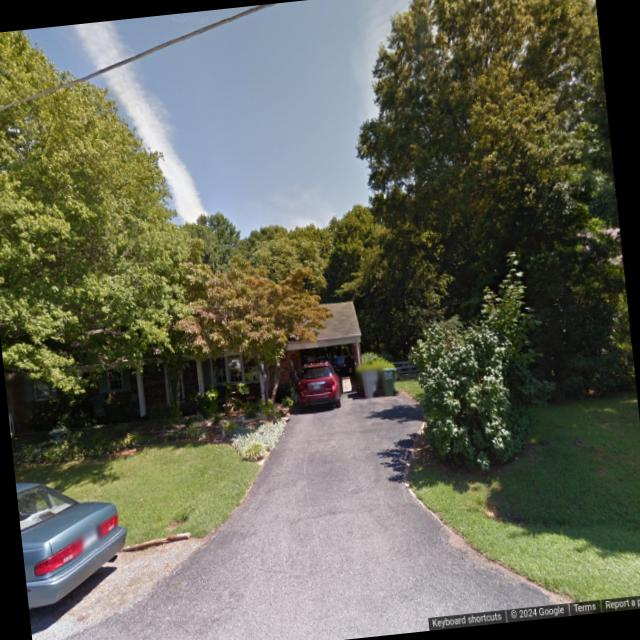House: (0, 300, 368, 434)
